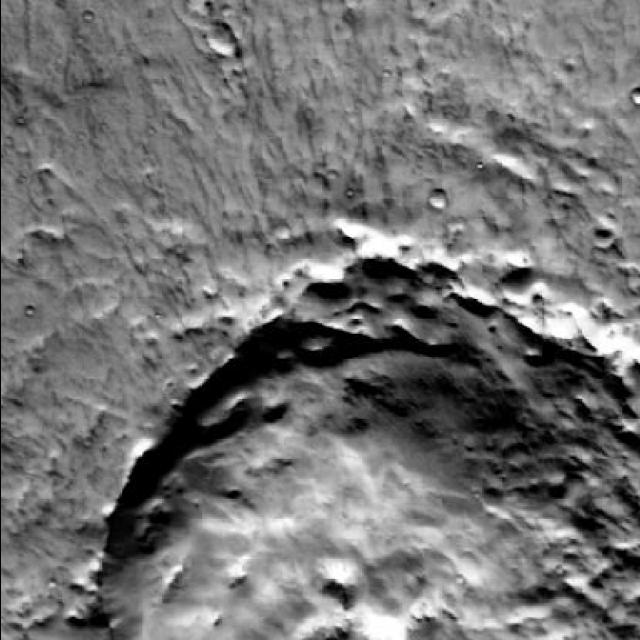crater: (91, 294, 640, 640), (200, 23, 232, 54), (592, 228, 614, 250), (621, 88, 640, 108), (430, 188, 448, 206)
